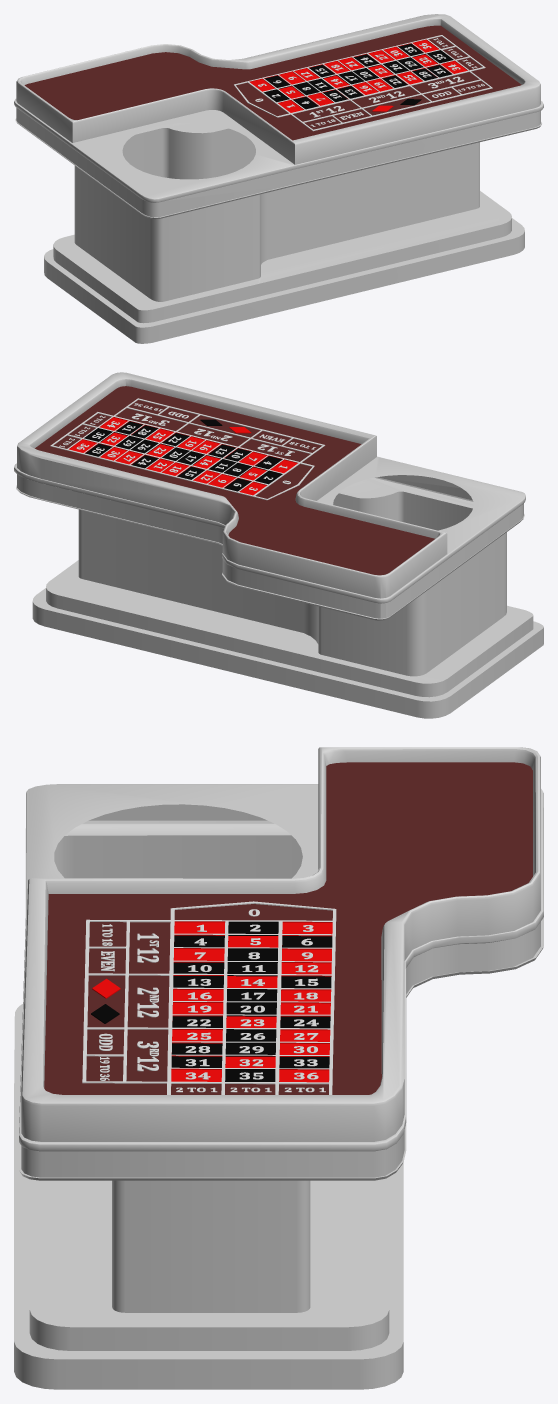
File: v4.1_Roulette Table.fbx
The picture shows the model from 3 angles, top to bottom: view 1: azimuth 30°, elevation 25°; view 2: azimuth 150°, elevation 25°; view 3: azimuth 270°, elevation 25°; orthographic projection. The views are drawn at different scales.
Parts seen in each view (by area): view 1: table; view 2: table; view 3: table.
Boxes of the visible parts, x1=… form: table: x1=14, y1=14, x2=543, y2=343; table: x1=14, y1=372, x2=543, y2=718; table: x1=14, y1=747, x2=543, y2=1389.
Bounding box in the file's own units: 733 × 274 × 441.
